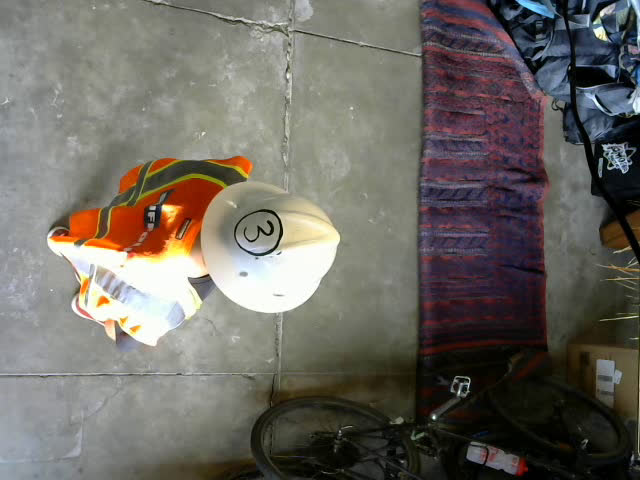three: (234, 208, 283, 255)
